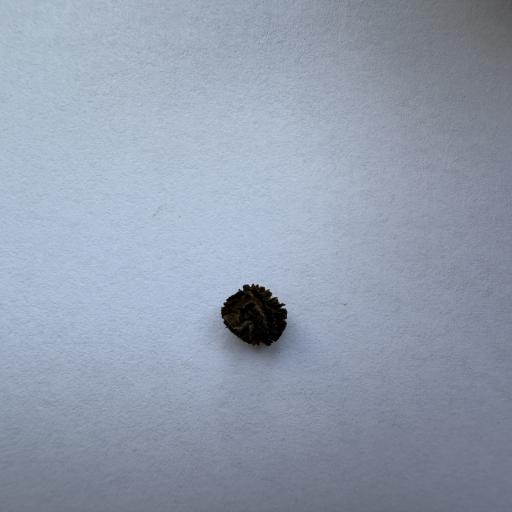papaya_seed: (190, 271, 316, 361)
